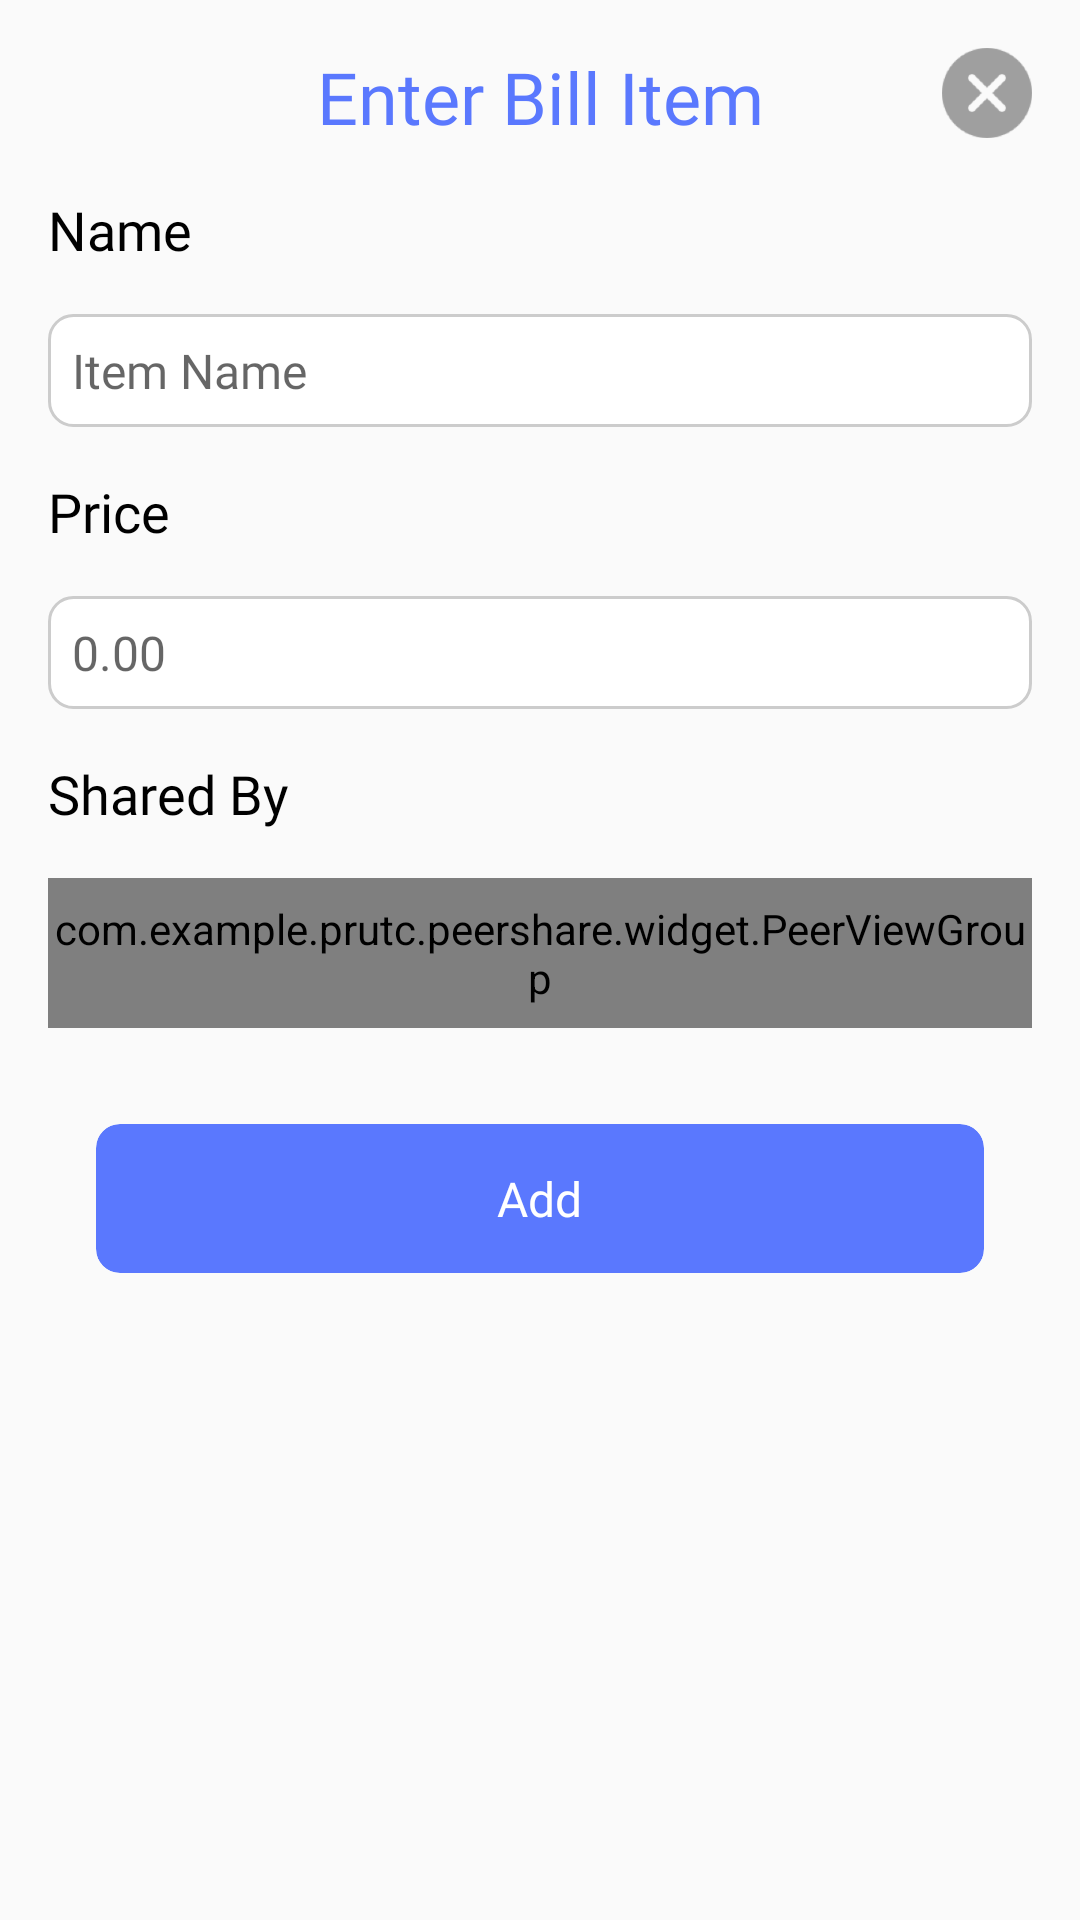

Where to tap for icons on this 1080 × 1920 app screen, as [x,y]:
cancel: [987,93]
